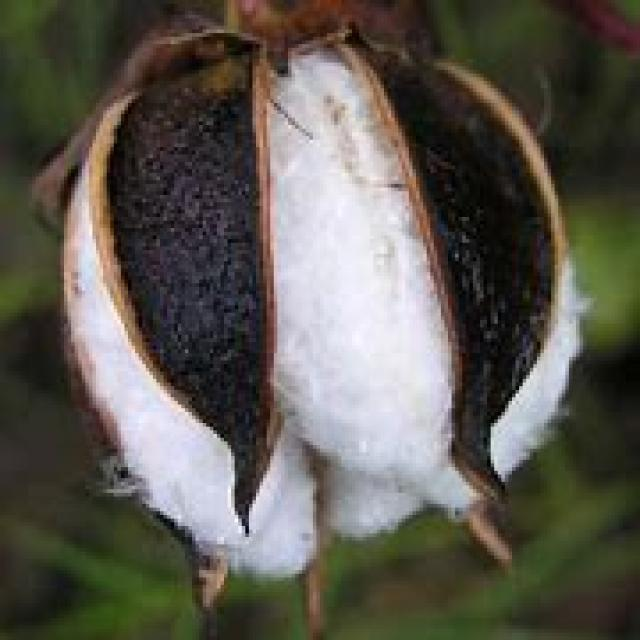Matured Cotton Boll: (50, 18, 578, 569)
